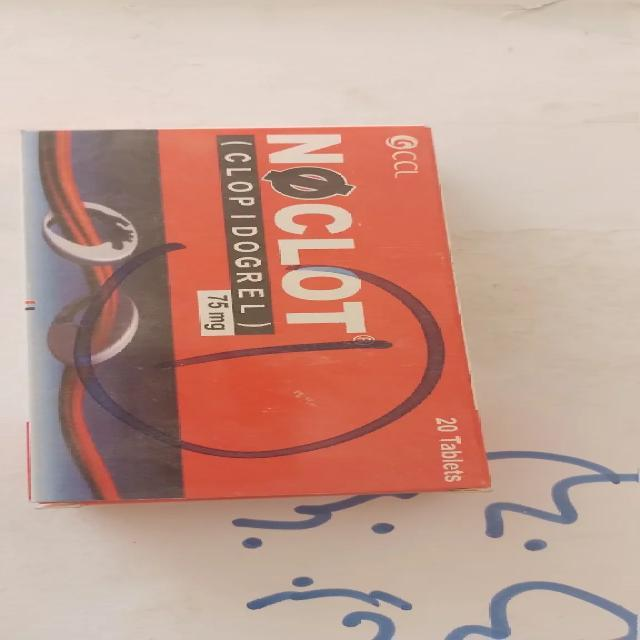drug-name: (262, 127, 383, 352)
